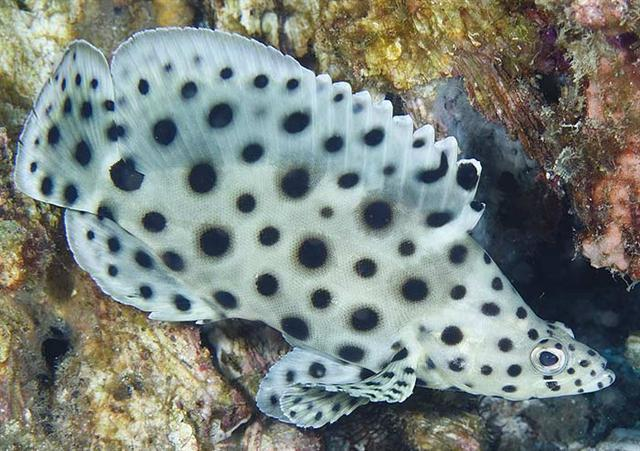Mulut: (566, 326, 628, 406)
Sirip Anal: (58, 200, 224, 334)
Sirip Dada: (279, 346, 419, 442)
Sirip Ekor: (12, 39, 122, 211)
Sirip Perut: (252, 336, 362, 426)
Sirip Punggung: (108, 17, 490, 232)
